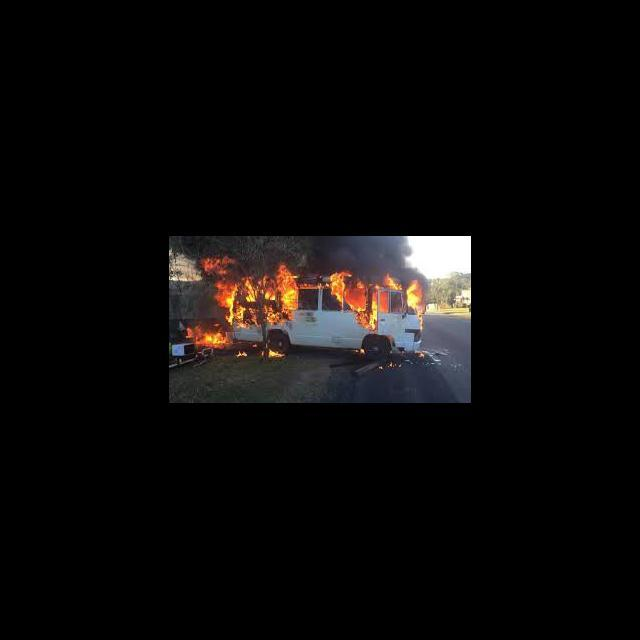Fire: (327, 272, 378, 332), (378, 272, 422, 331), (238, 305, 294, 328), (240, 272, 276, 303), (216, 282, 236, 326), (278, 267, 299, 308), (200, 256, 235, 276), (200, 330, 228, 351), (378, 359, 402, 376), (184, 324, 200, 344), (268, 349, 288, 360), (237, 350, 250, 360), (354, 348, 366, 357), (415, 350, 425, 360), (250, 343, 261, 350)
Smoke: (312, 237, 415, 270)
